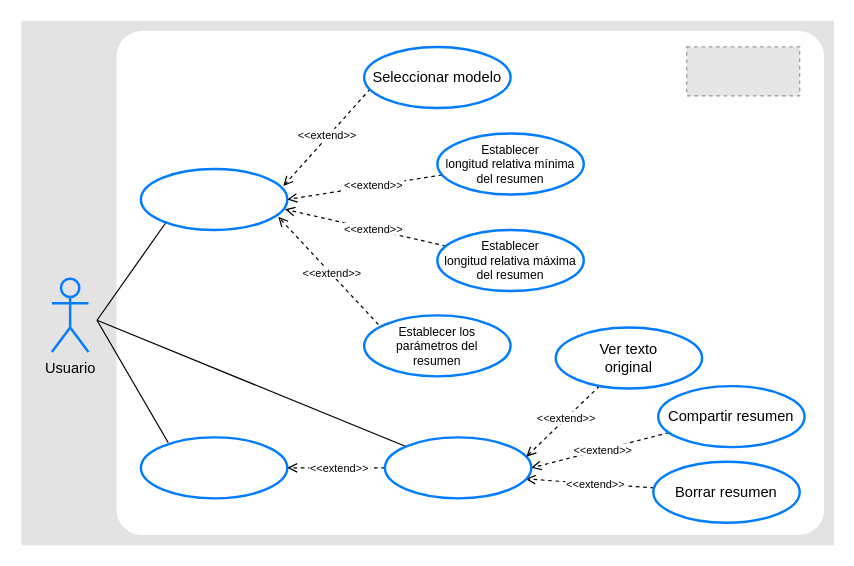
The diagram is 854 pixels wide and 566 high, and some of its shapes have lost their labels. Grey dashed boxes stand in for pictures. Each missing label, with the centre of its shape:
Consultar historial de resúmenes: the point at 213,467
Consultar resumen: the point at 457,467
Solicitar resumen: the point at 213,199
